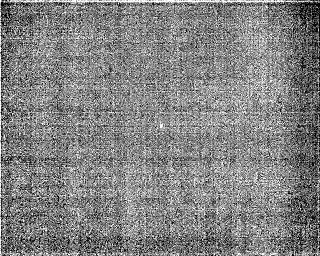AIRPLANE: (156, 121, 165, 133)
